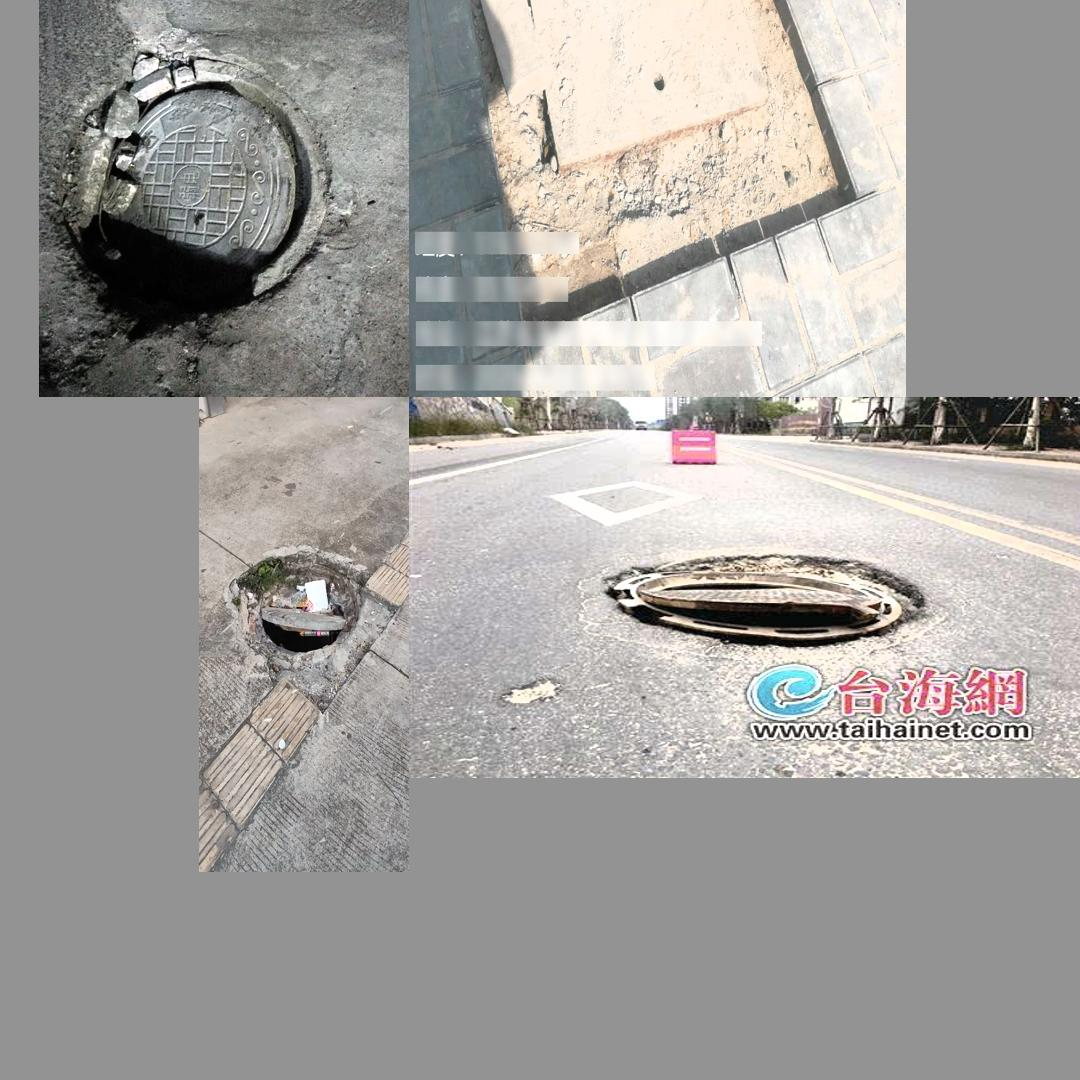circle: (436, 0, 850, 256), (49, 56, 340, 322), (534, 543, 973, 668), (217, 541, 389, 702)
